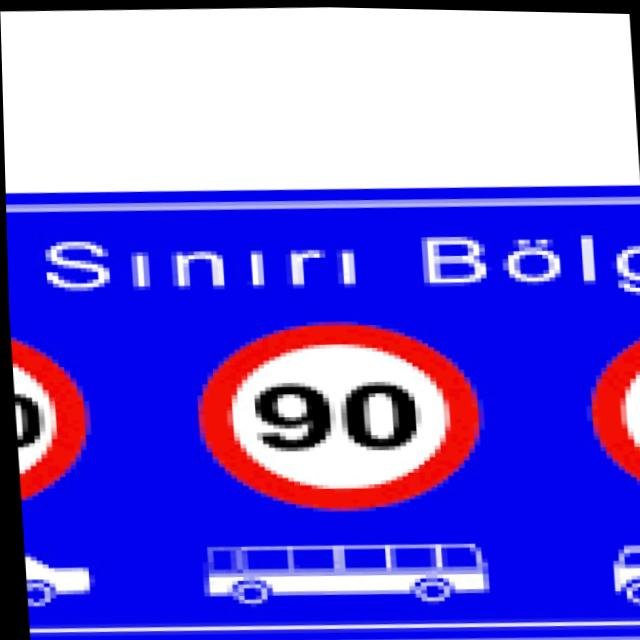Speed Limit -90-: (182, 308, 486, 519)
